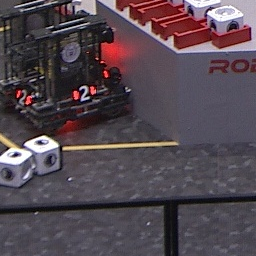Red: (72, 85, 97, 102), (15, 89, 32, 106)
Robot: (1, 1, 130, 131)
